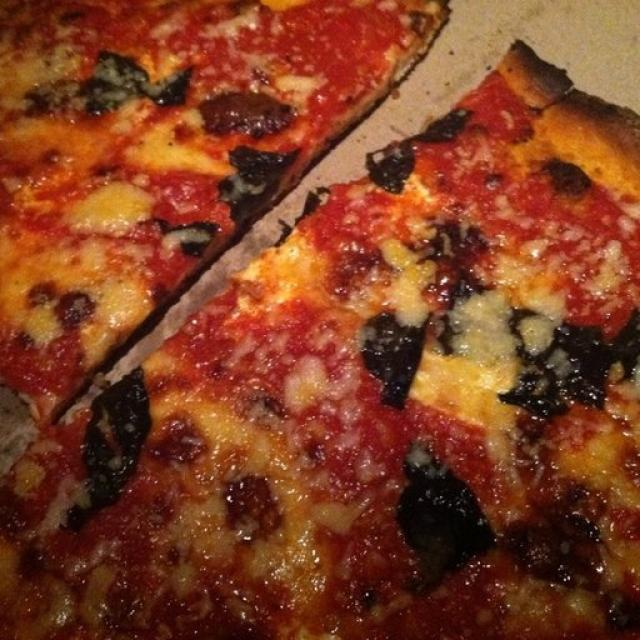Basil: (515, 310, 640, 426), (406, 438, 487, 585), (504, 508, 604, 586), (86, 389, 140, 514), (363, 307, 425, 400), (85, 53, 183, 99), (229, 143, 272, 210), (33, 284, 96, 324), (363, 152, 412, 187), (149, 221, 211, 247)
Pizza: (0, 40, 640, 640)
